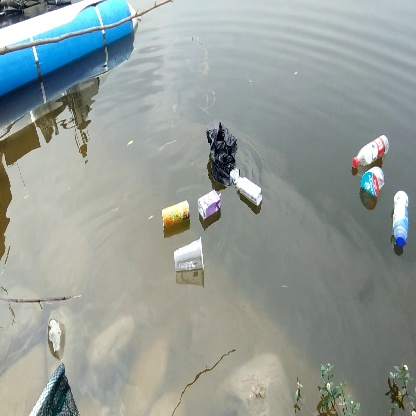bottle: (350, 132, 392, 169), (390, 189, 413, 251), (173, 236, 207, 275), (160, 199, 192, 230)
milk-box: (233, 172, 266, 207), (198, 189, 222, 221)
plastic-bag: (205, 124, 238, 185)
